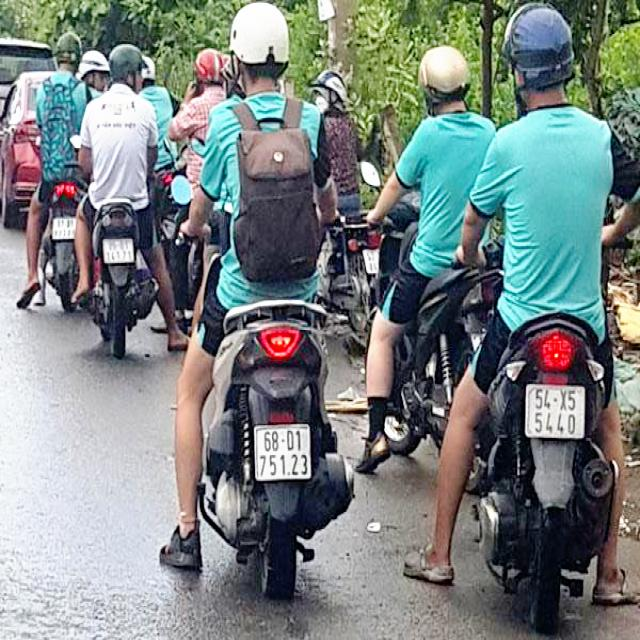license_plate: (529, 382, 584, 444), (256, 424, 312, 482), (103, 237, 137, 268), (54, 216, 75, 243)
